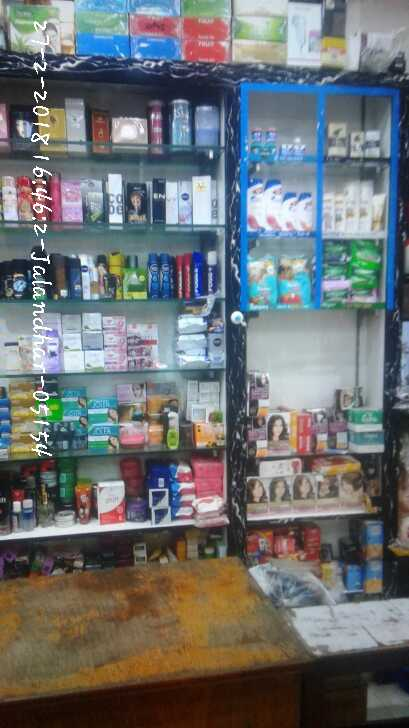gillete: (61, 459, 76, 506), (45, 458, 57, 500), (24, 499, 34, 534)
